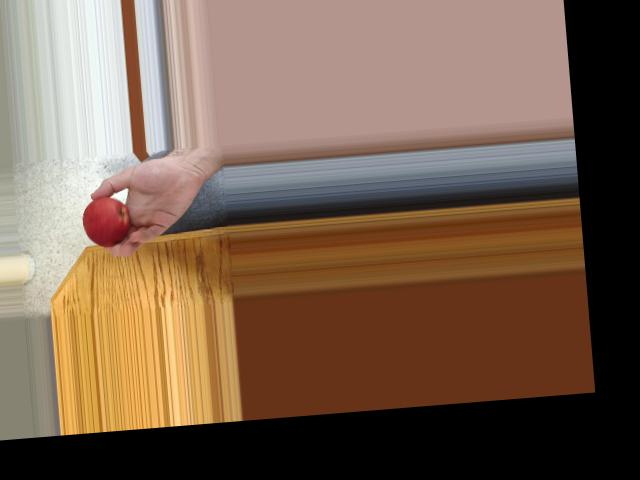apple: (81, 192, 136, 248)
